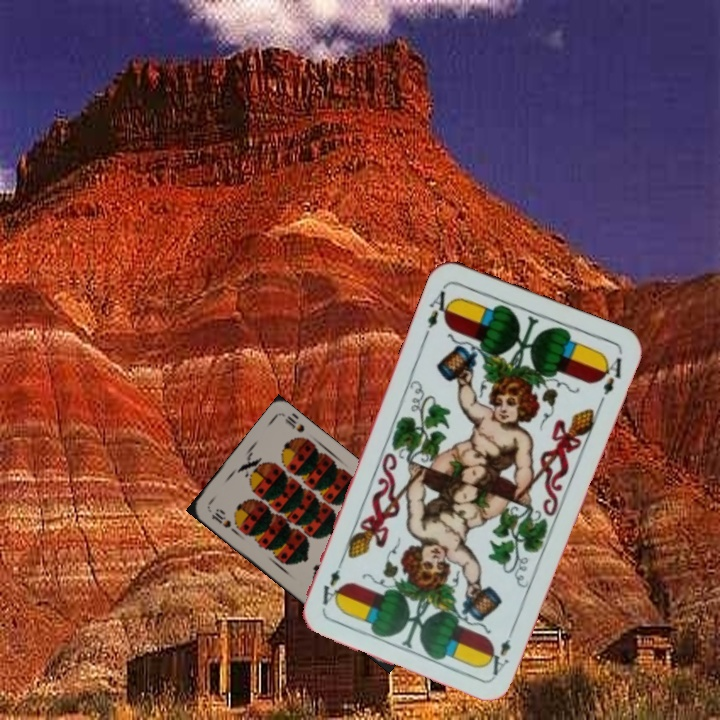EA: (483, 621, 518, 679), (420, 286, 457, 340)
S10: (207, 505, 234, 530)
